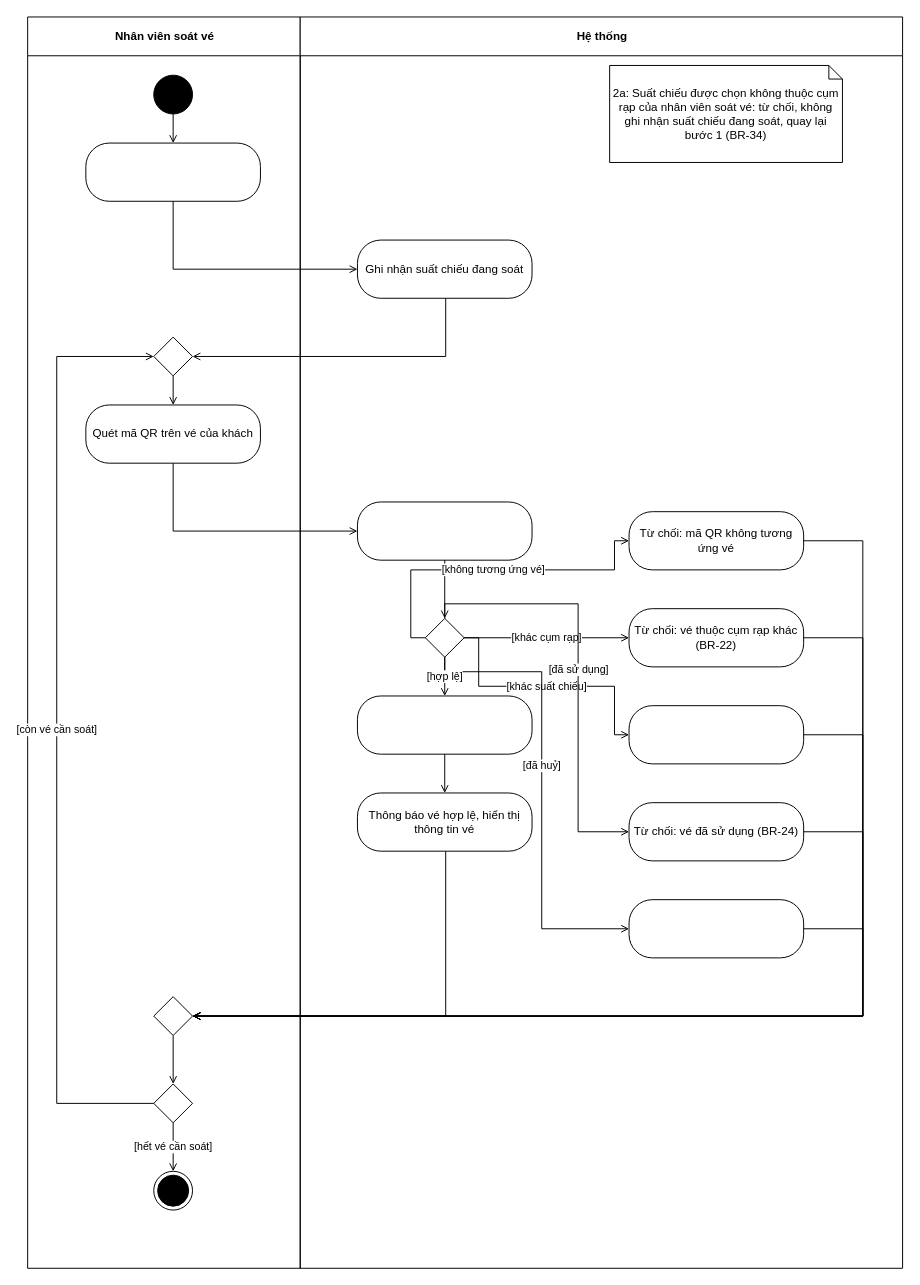
Image size: 920x1285. Some labels were removed from this diagram. The centre of each missing label's shape, as x and y in pixels:
"Chọn suất chiếu đang soát" goes at point (172, 171).
"Kiểm tra mã QR và vé" goes at point (444, 530).
"Từ chối: vé thuộc suất chiếu khác (BR-23)" goes at point (716, 734).
"Từ chối: vé đã huỷ (BR-25)" goes at point (716, 928).
"Đánh dấu vé đã sử dụng" goes at point (444, 724).
